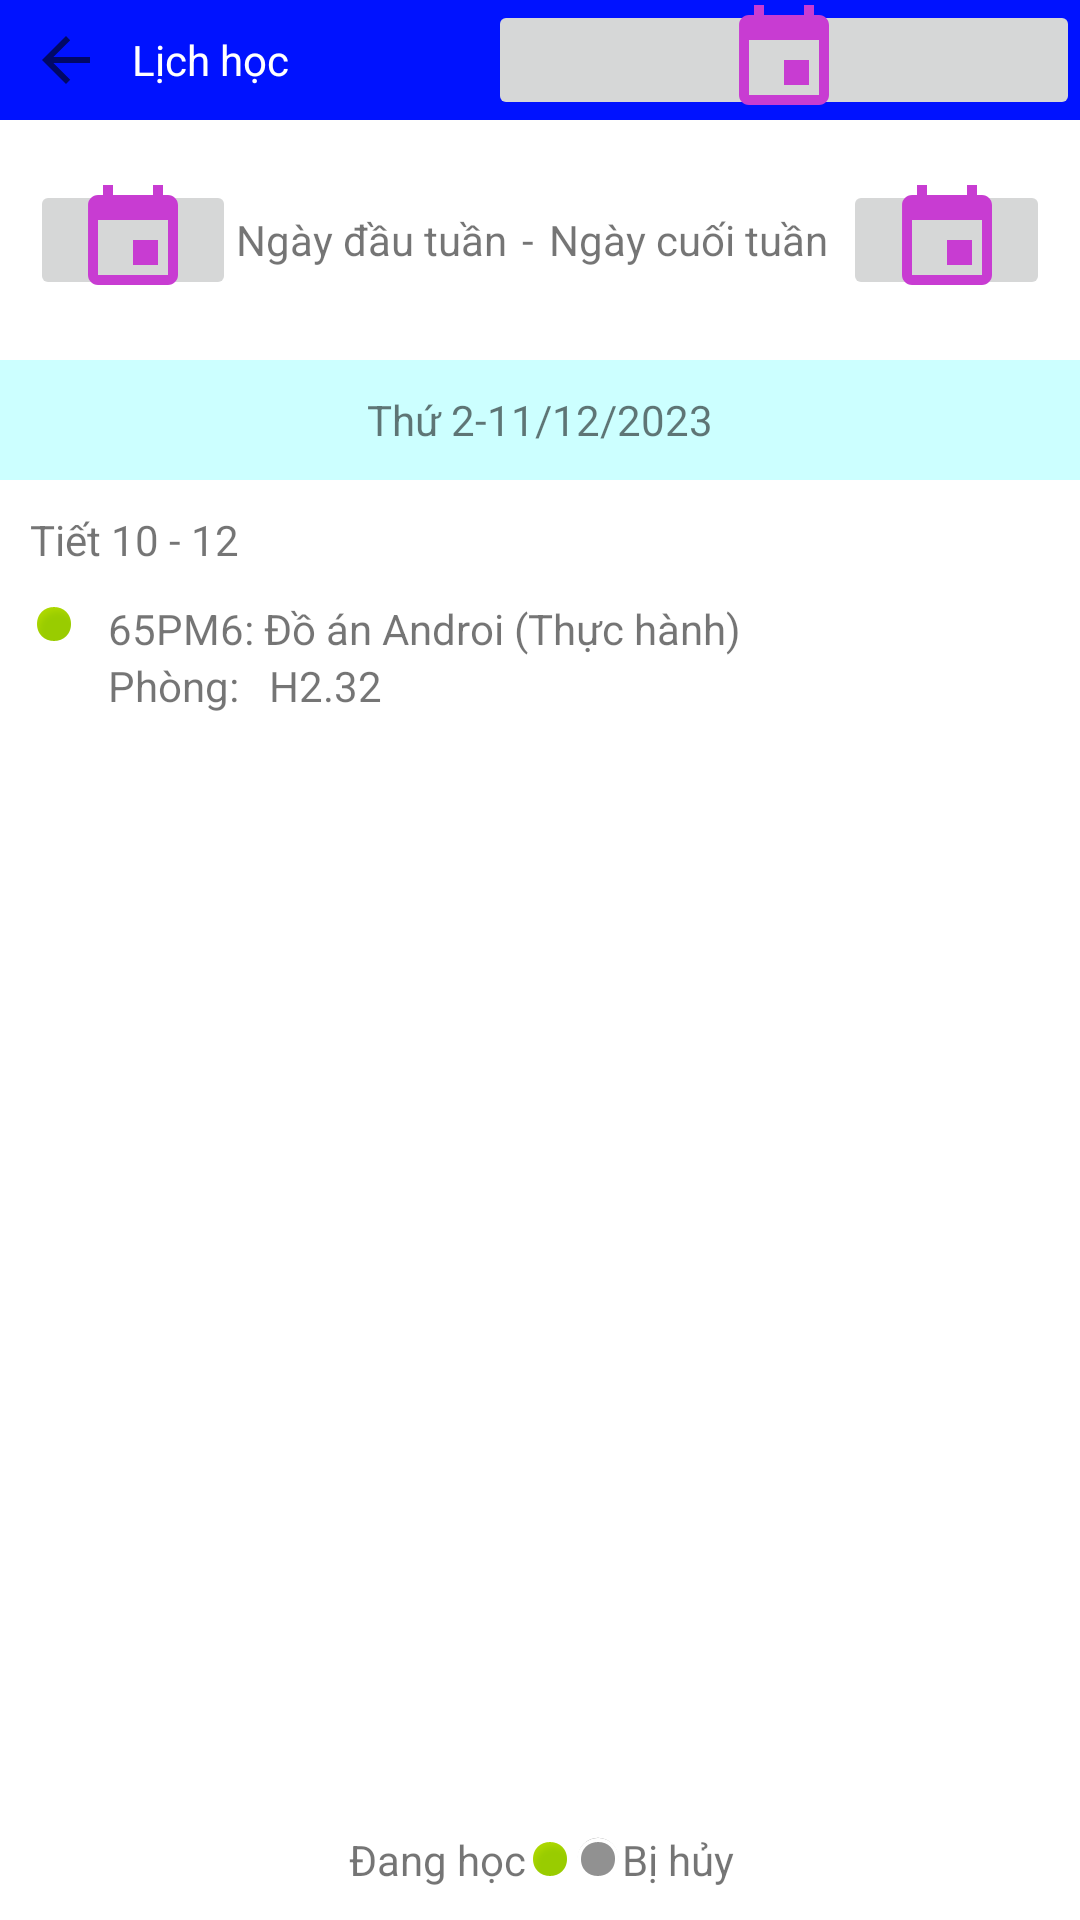

Point at icon controls on the screen. Image size 1080 × 1920, points as (x,y).
presence online: (54,624)
